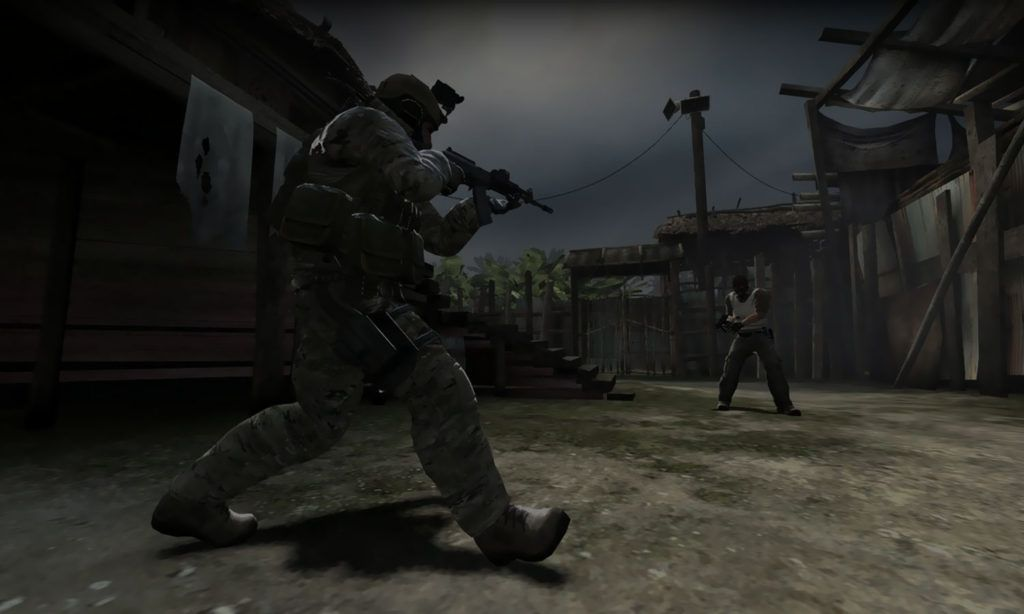c: (189, 68, 552, 563)
ch: (344, 67, 462, 153), (720, 271, 759, 303)
t: (714, 274, 793, 420)
